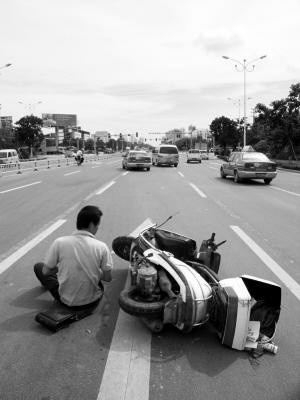falling: (29, 200, 115, 322)
